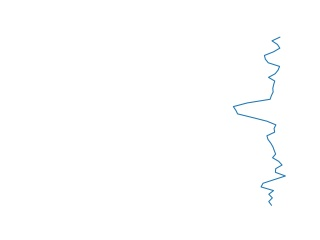interdistributaryEstuary: (226, 36, 293, 206)
